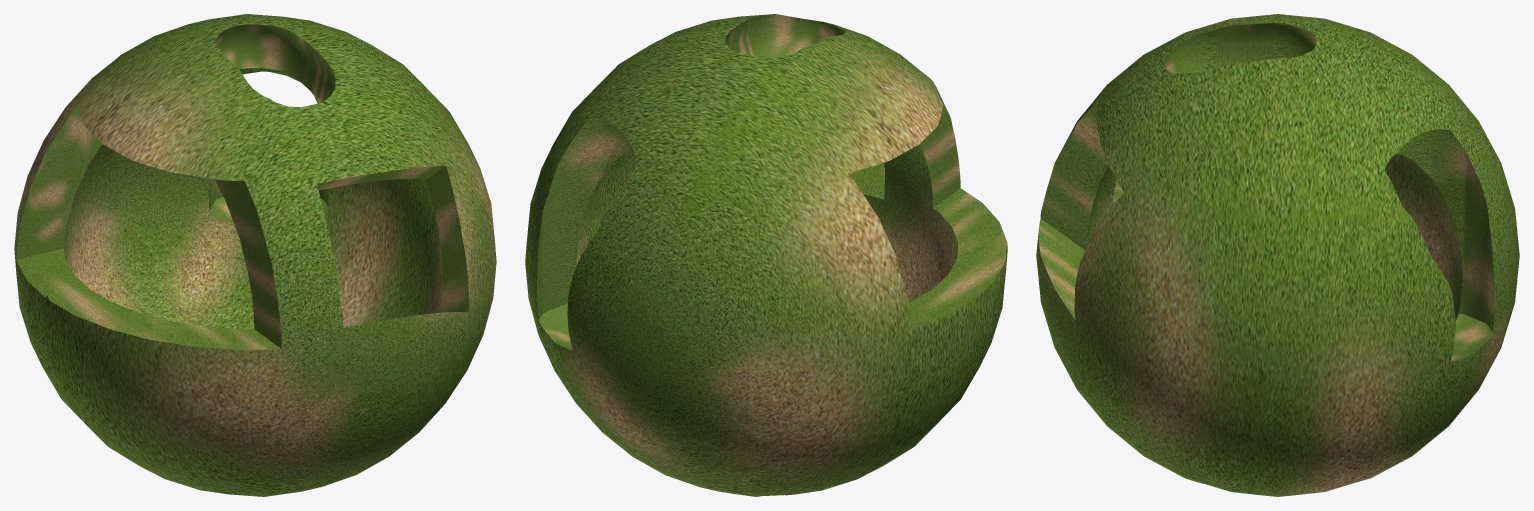
The model's file is star.FBX.
3 views of the same model, side by side, from view 1: azimuth 30°, elevation 25°; view 2: azimuth 150°, elevation 25°; view 3: azimuth 270°, elevation 25° (orthographic).
Visible parts, largest first — view 1: base; view 2: base; view 3: base.
Part boxes in pixels (x1,y1,x2,y2): base: (14, 14, 496, 496); base: (525, 14, 1007, 496); base: (1036, 14, 1519, 496).
Size of the model in its own units: 427 by 414 by 427.
1 material, 1 textured.
